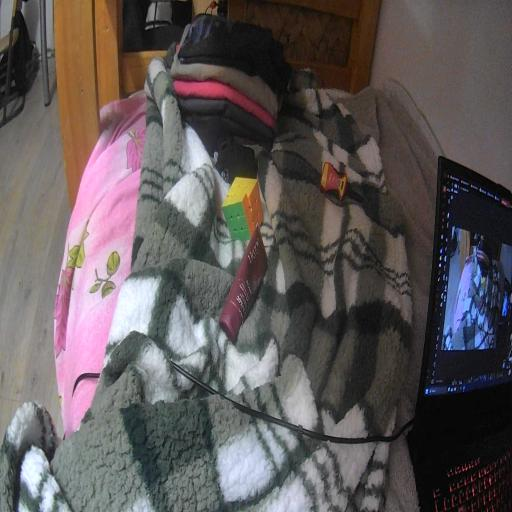Hand Cream: (219, 223, 269, 344)
Rubiks Cube: (219, 176, 264, 242)
Super Glue: (320, 160, 362, 211)
